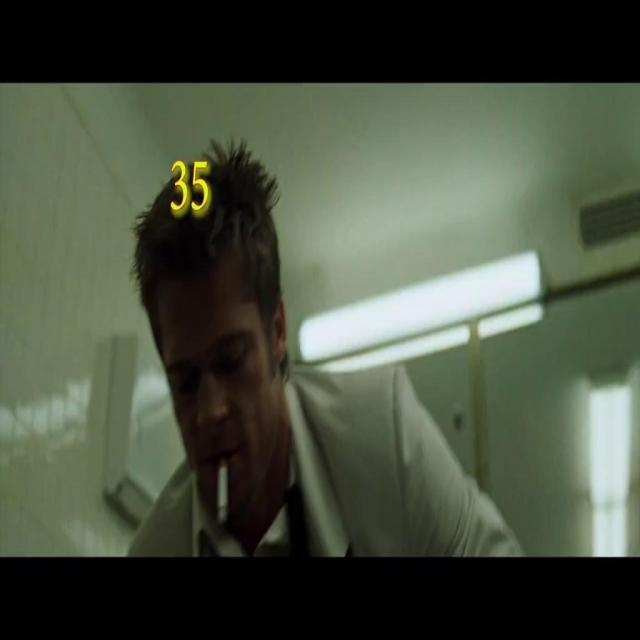smoking: (216, 460, 229, 525)
